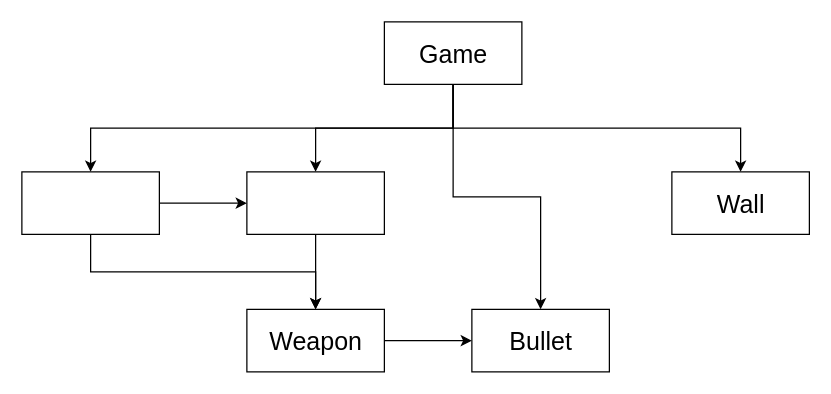
Some shapes in this 831 by 394 pixel diagram are drawn without their labels. Here are the shapes that lost their labels. From the top down, the centre of each, then its label:
the point at 90,202: Bonus
the point at 315,202: Tank
